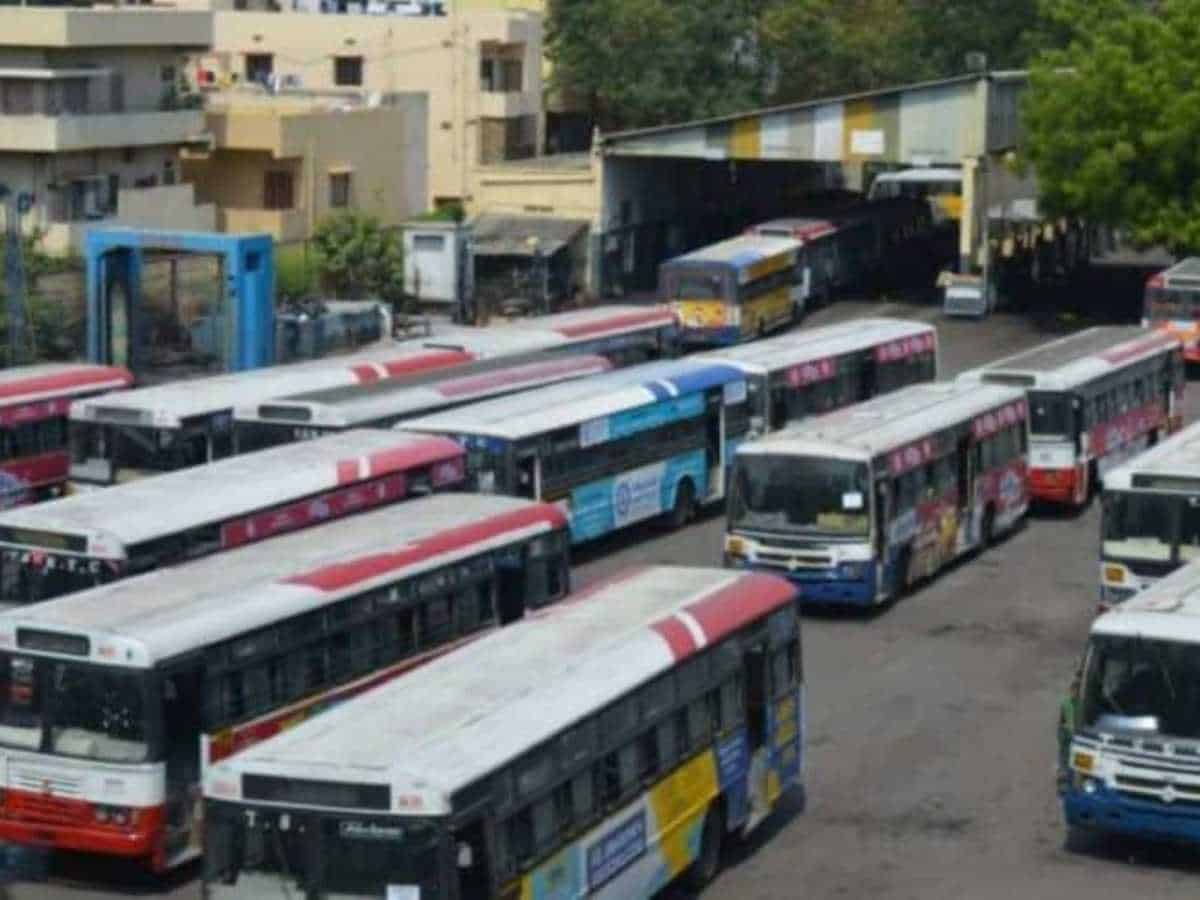bus: (245, 570, 806, 900), (737, 395, 1049, 560), (7, 607, 198, 874), (1081, 606, 1200, 883), (520, 372, 750, 506), (997, 331, 1188, 471), (683, 235, 816, 333), (1101, 456, 1200, 576), (66, 402, 197, 479), (6, 514, 107, 577), (1148, 266, 1200, 337)
